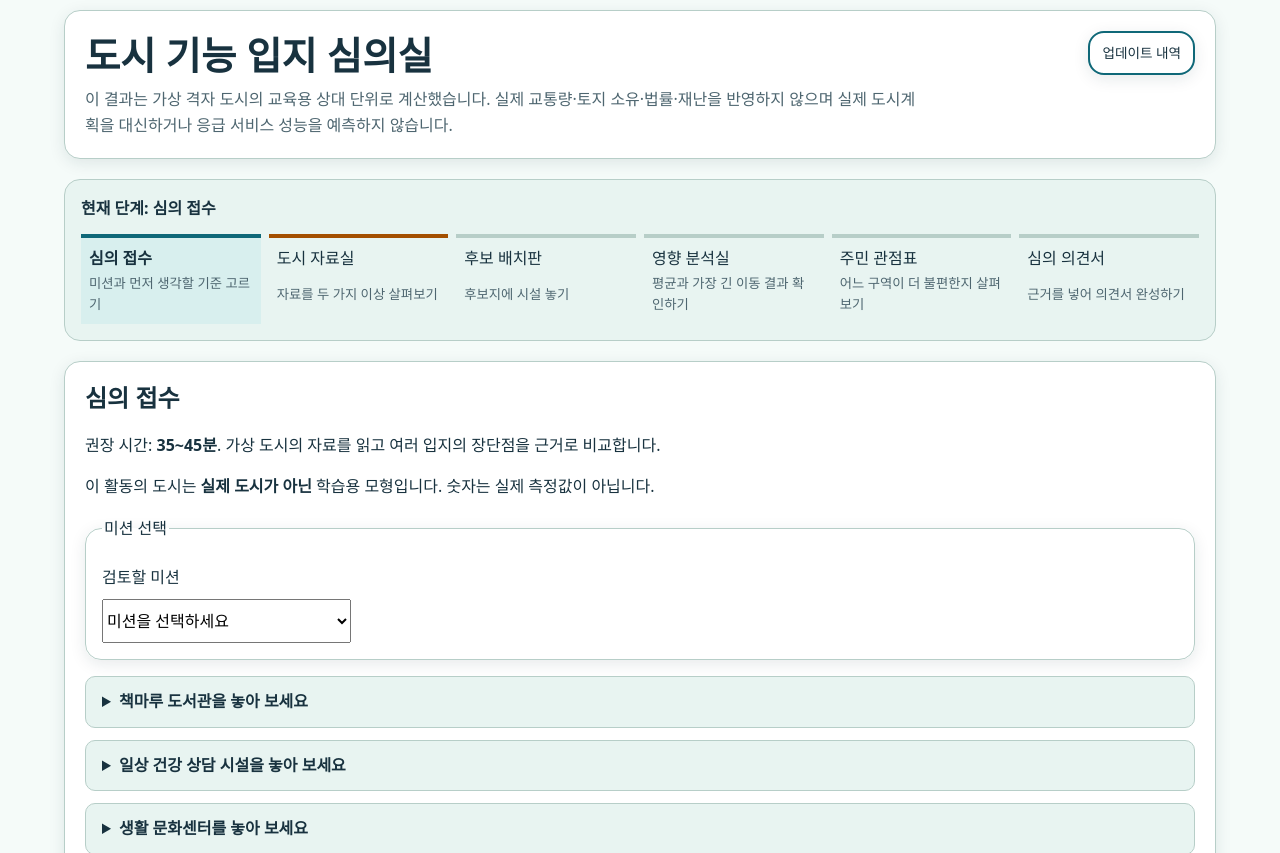
it: CityDataRoom › requires two reviewed layers before data confirmation
The image size is (1280, 853).
Select "책마루 도서관을 놓아 보세요" in the dropdown named "미션 선택" at [226, 621], box [102, 599, 351, 643]
(page scrolled)
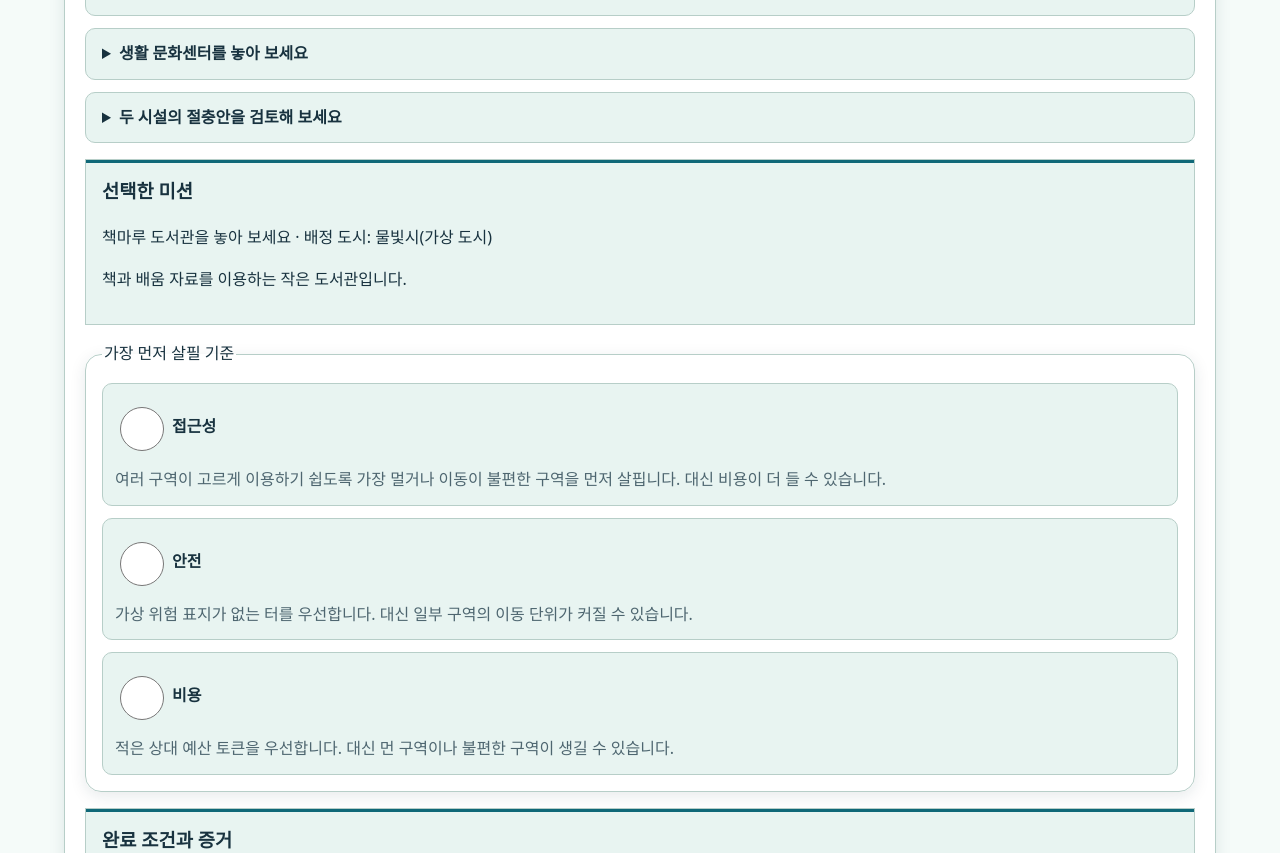
Click the radio button labelled "접근성".
click(142, 429)  # box [120, 407, 164, 451]
(page scrolled)
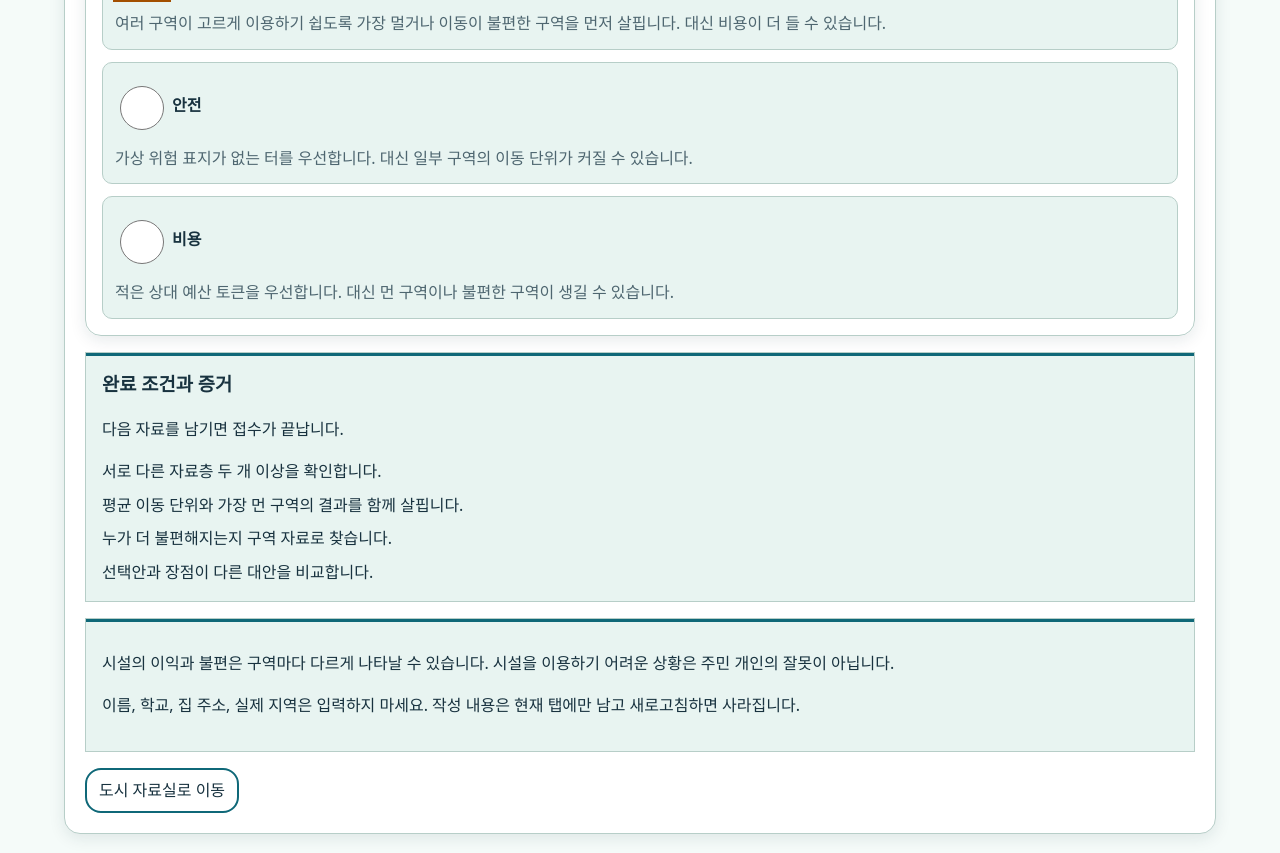
Click the button "도시 자료실로 이동".
click(162, 790)  # box [85, 768, 239, 813]
(page scrolled)
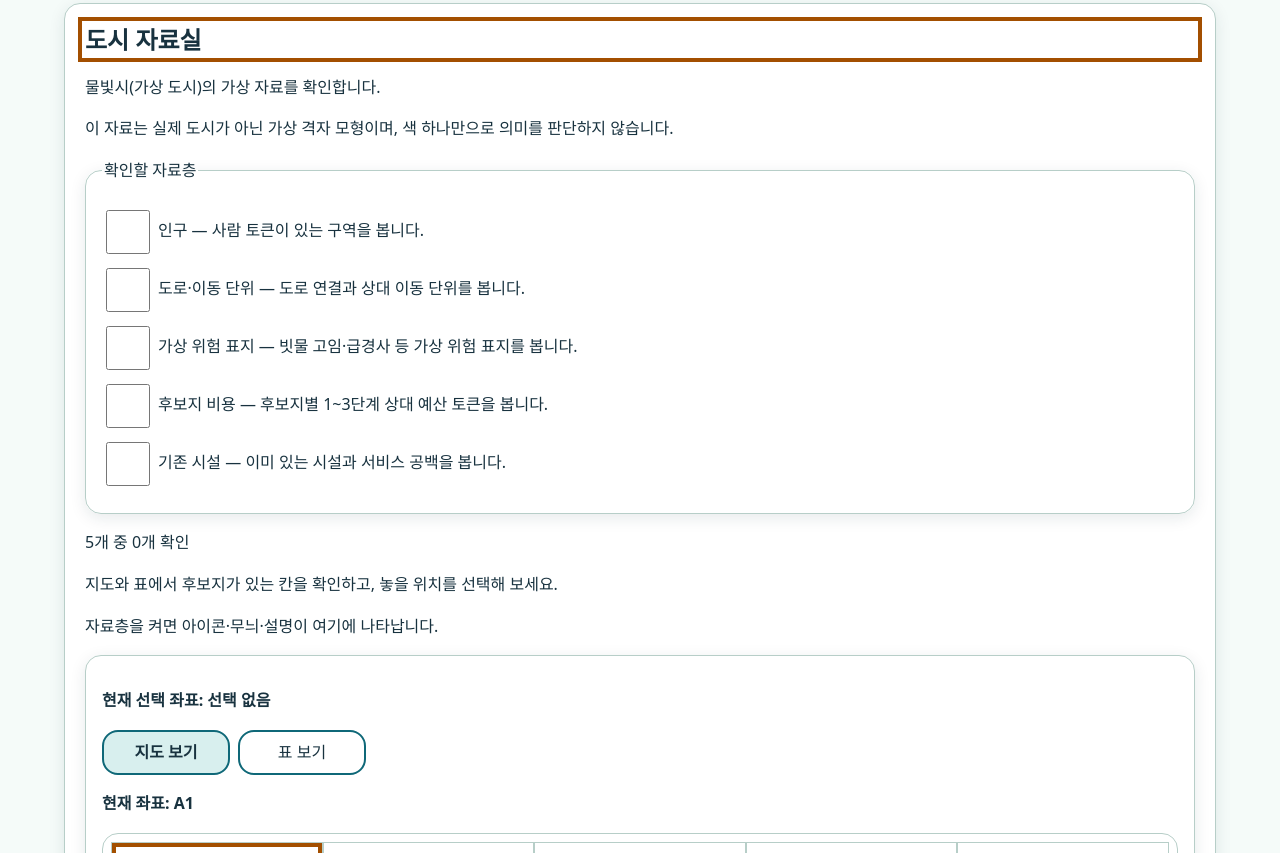
Click the checkbox labelled "인구 — 사람 토큰이 있는 구역을 봅니다.".
click(128, 232)  # box [106, 210, 150, 254]
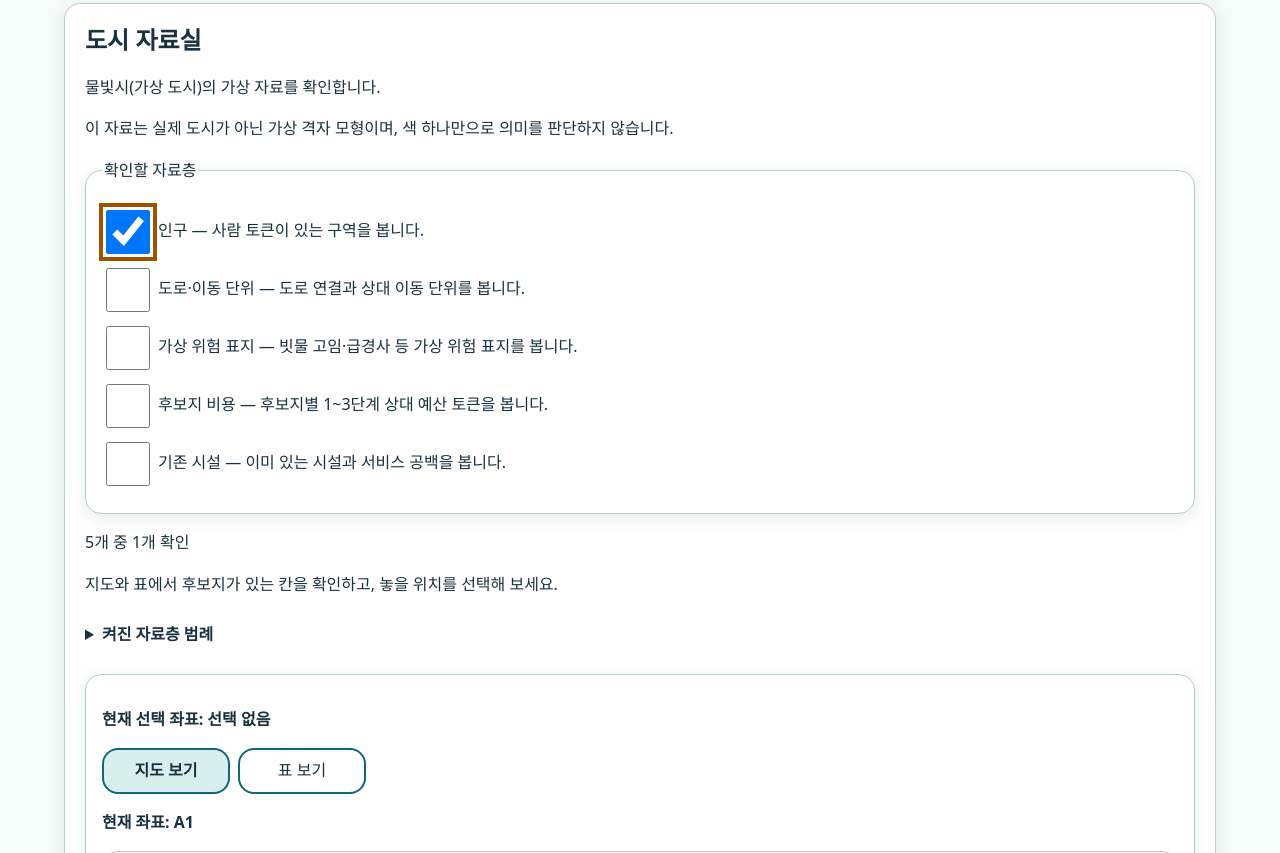
Click the checkbox labelled "도로·이동 단위 — 도로 연결과 상대 이동 단위를 봅니다.".
click(128, 290)  # box [106, 268, 150, 312]
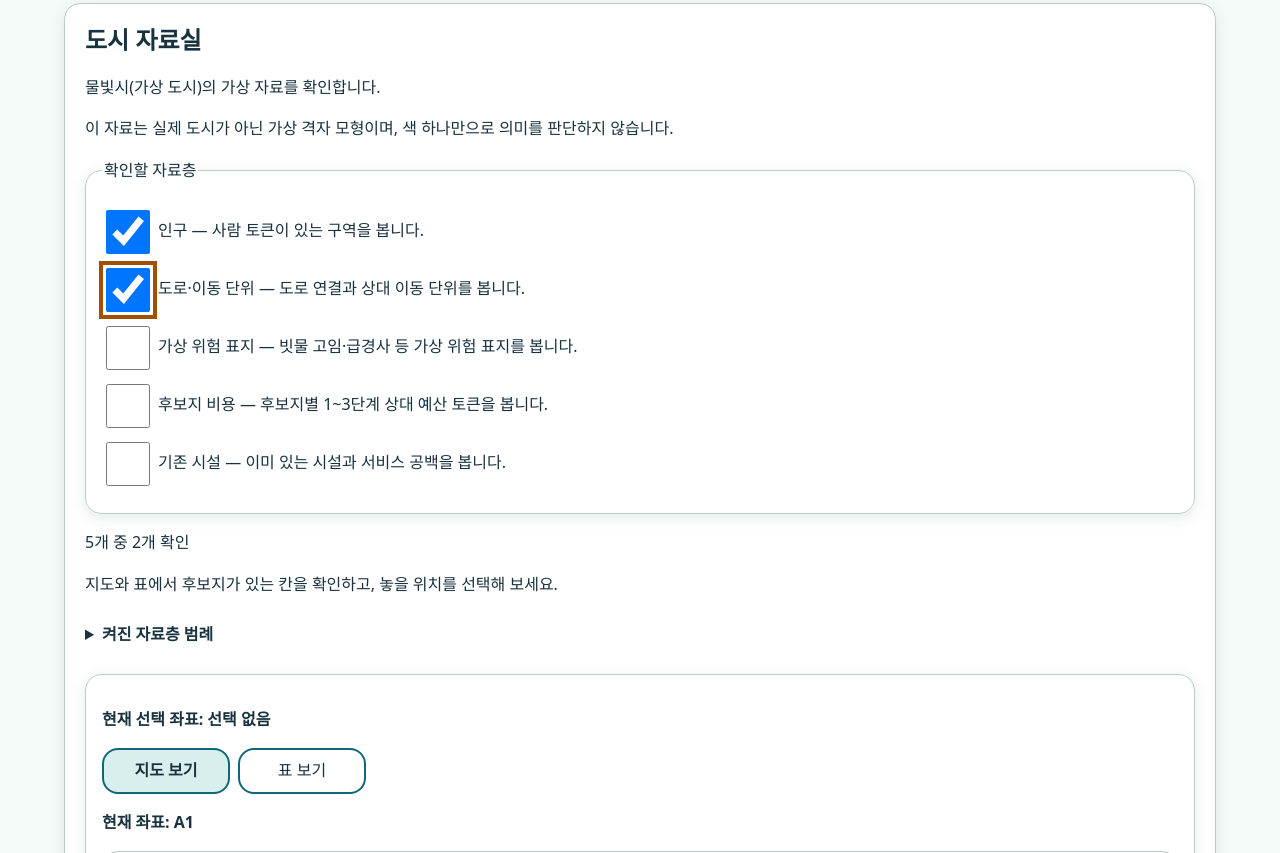
Check: the message named "자료층 확인 상태" reads "5개 중 2개 확인", box [85, 532, 189, 554]
